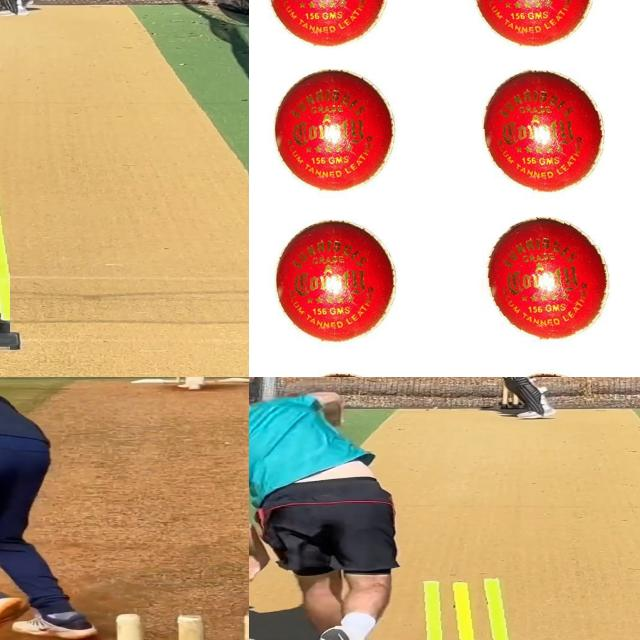Cricket ball: (258, 210, 420, 342), (463, 61, 605, 201), (468, 215, 611, 353), (260, 62, 406, 194), (252, 0, 404, 49), (453, 0, 599, 49)
Stumps: (400, 578, 527, 640)
